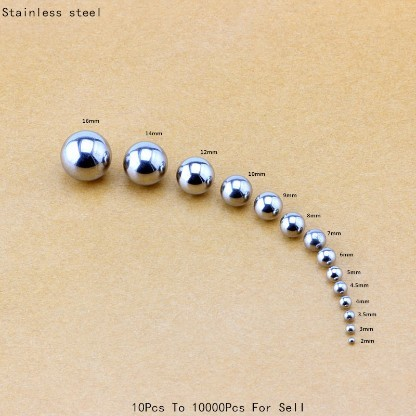ironball: (59, 130, 111, 181), (122, 140, 167, 185), (175, 156, 214, 194), (219, 174, 252, 206), (253, 190, 282, 220), (279, 211, 305, 237), (302, 228, 326, 251), (316, 247, 335, 266), (326, 265, 342, 281), (332, 280, 346, 294), (338, 295, 351, 307), (343, 309, 354, 321), (345, 323, 355, 333), (347, 336, 354, 343)
